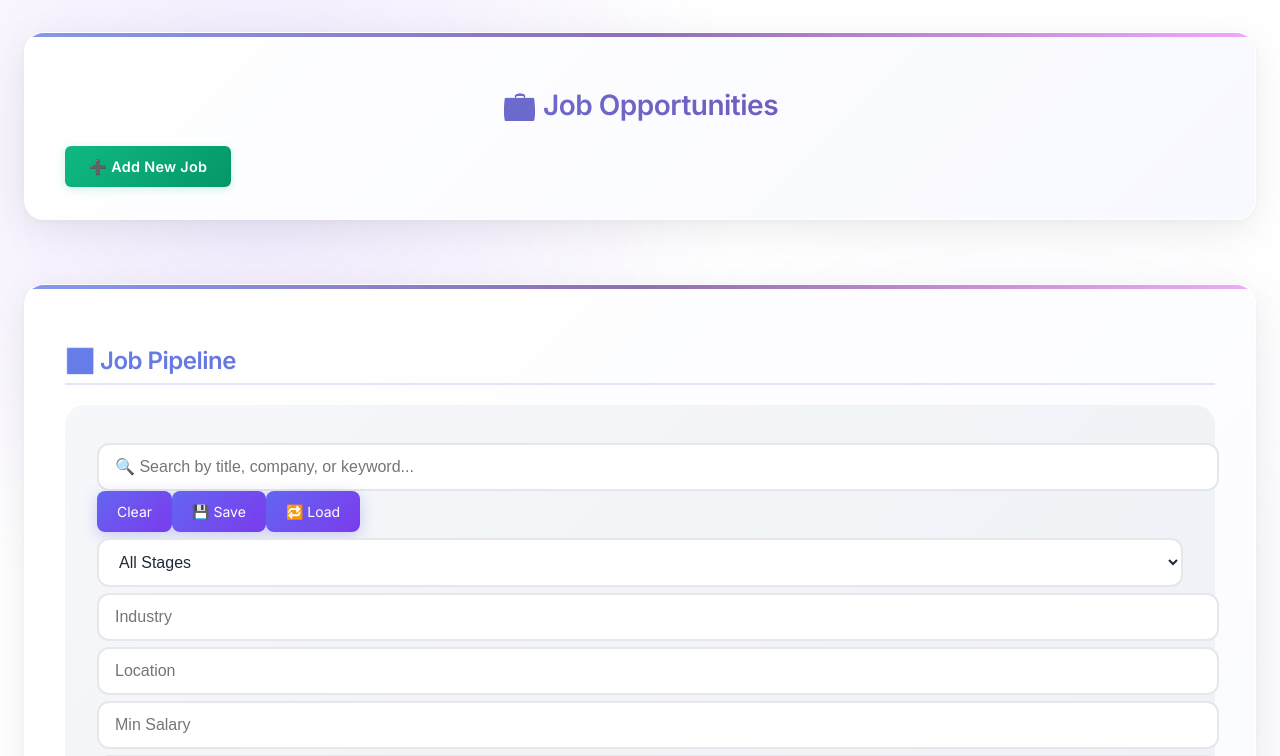
Scenario: JobsTab › hides Add button when form is shown
This screenshot has width=1280, height=756.
Click the button "➕ Add New Job" at x=148, y=167, box 65,146 -> 231,187
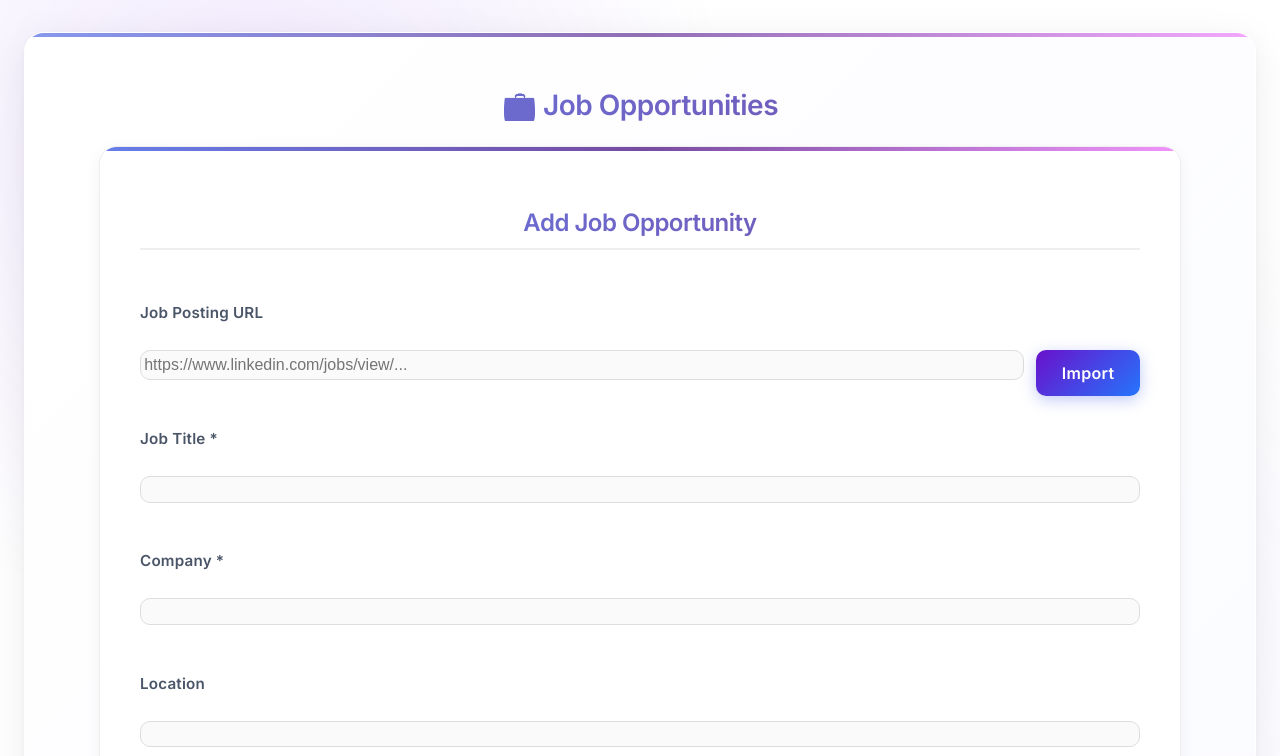
Result: the button "Add New Job" is gone
